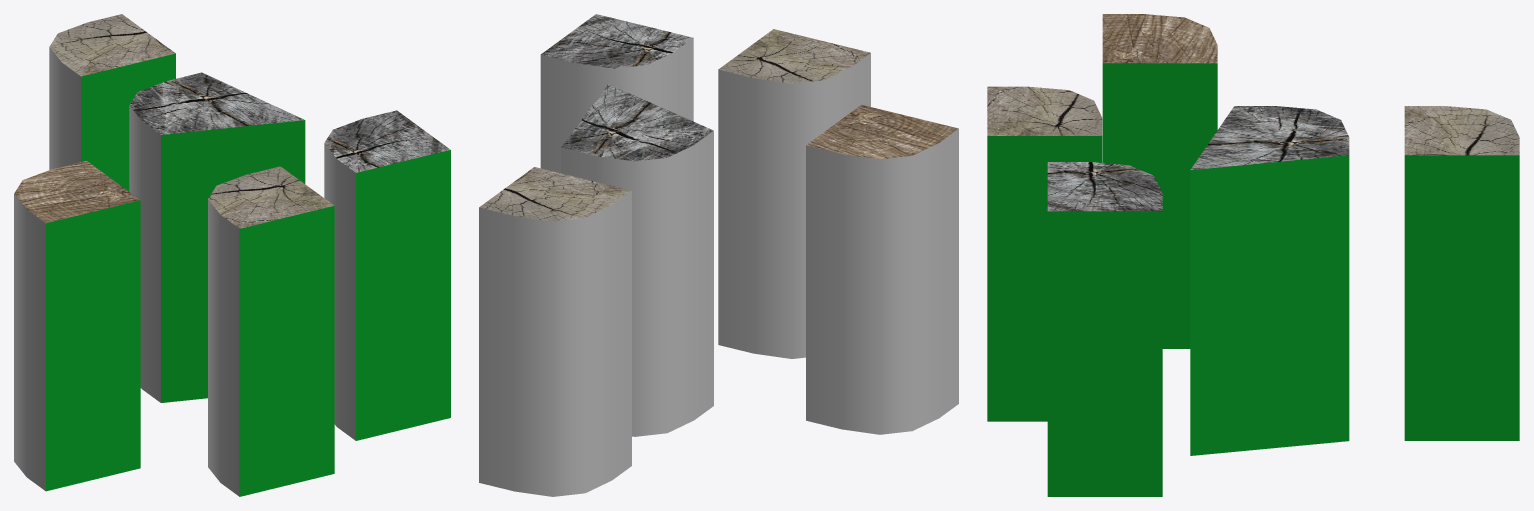
Rendered from Drova.FBX.
3 renders of one model, left to right at view 1: azimuth 30°, elevation 25°; view 2: azimuth 150°, elevation 25°; view 3: azimuth 270°, elevation 25°, orthographic. The views are drawn at different scales.
Visible parts, largest first — view 1: Drova04, Drova05, Drova03, Drova02, Drova01; view 2: Drova05, Drova01, Drova04, Drova02, Drova03; view 3: Drova02, Drova03, Drova01, Drova04, Drova05.
Part boxes in pixels (<box>): Drova04: <box>208,166,334,496</box>; Drova05: <box>14,160,140,491</box>; Drova03: <box>324,110,450,440</box>; Drova02: <box>129,72,305,402</box>; Drova01: <box>49,14,175,191</box>; Drova05: <box>806,104,958,434</box>; Drova01: <box>479,167,631,496</box>; Drova04: <box>718,29,870,358</box>; Drova02: <box>561,84,713,436</box>; Drova03: <box>540,14,693,173</box>; Drova02: <box>1190,106,1349,455</box>; Drova03: <box>1047,162,1162,496</box>; Drova01: <box>1404,106,1519,440</box>; Drova04: <box>987,86,1102,421</box>; Drova05: <box>1102,14,1217,348</box>.
Bounding box in the file's own units: 8.54 × 9.75 × 5.77.
